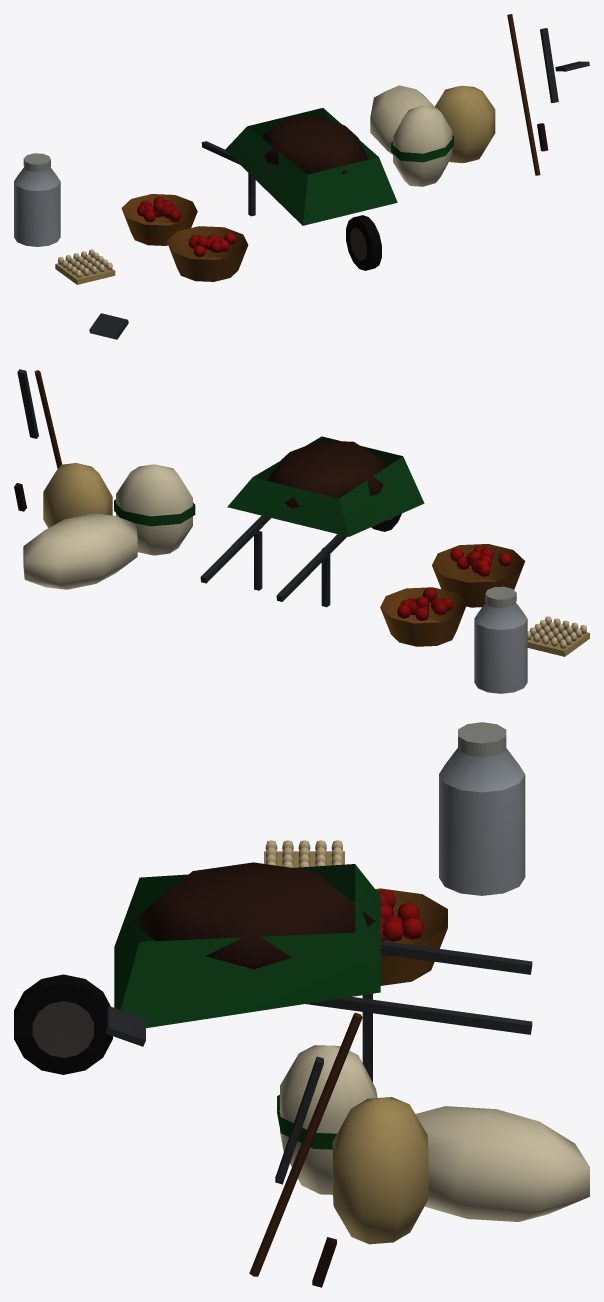
File: fm_tools.glb
3 views of the same model, one above another, from view 1: azimuth 30°, elevation 25°; view 2: azimuth 150°, elevation 25°; view 3: azimuth 270°, elevation 25° (orthographic). The views are drawn at different scales.
Visible parts, largest first — view 1: fm_tools; view 2: fm_tools; view 3: fm_tools.
Boxes of the visible parts, x1=… form: fm_tools: x1=14, y1=14, x2=589, y2=284; fm_tools: x1=14, y1=313, x2=589, y2=693; fm_tools: x1=14, y1=722, x2=589, y2=1287.
Bounding box in the file's own units: 4.09 × 1.16 × 2.27.
